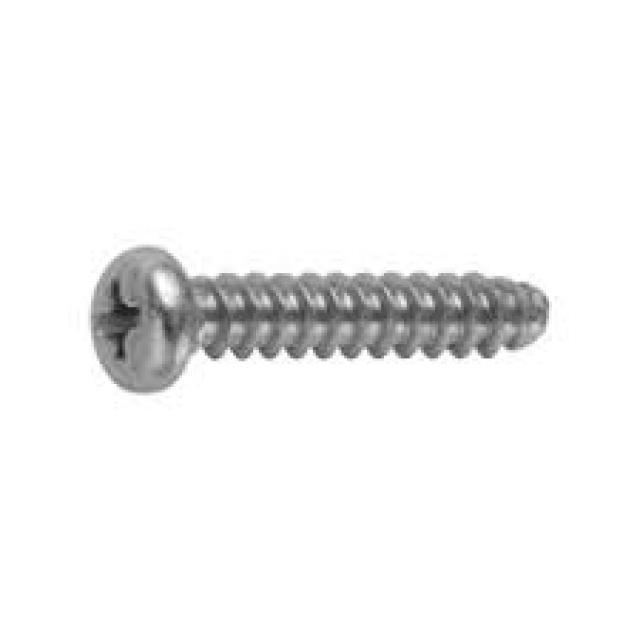Screw: (88, 247, 552, 395)
